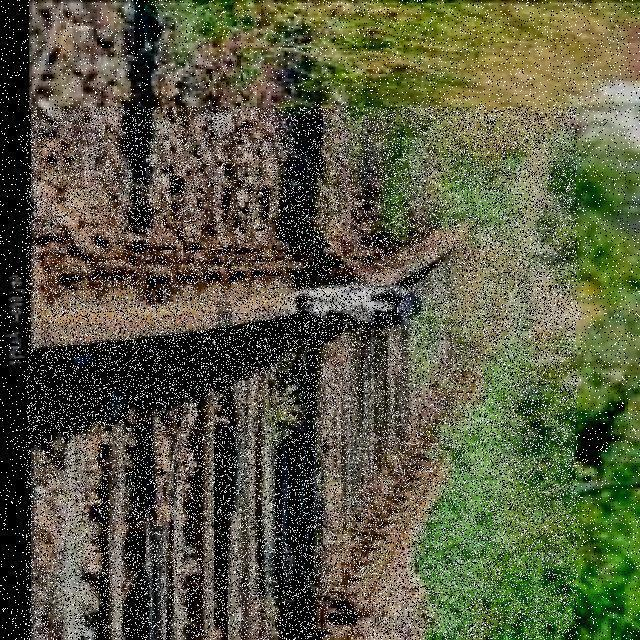rail: (27, 109, 578, 640)
